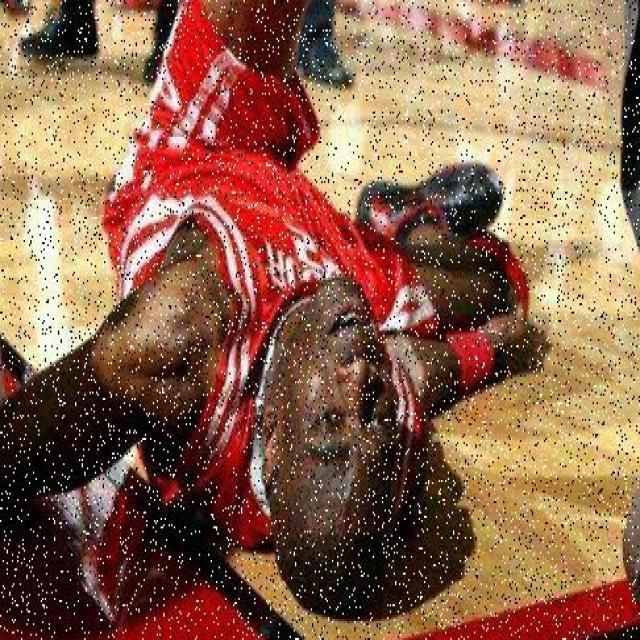fall: (33, 74, 527, 583)
